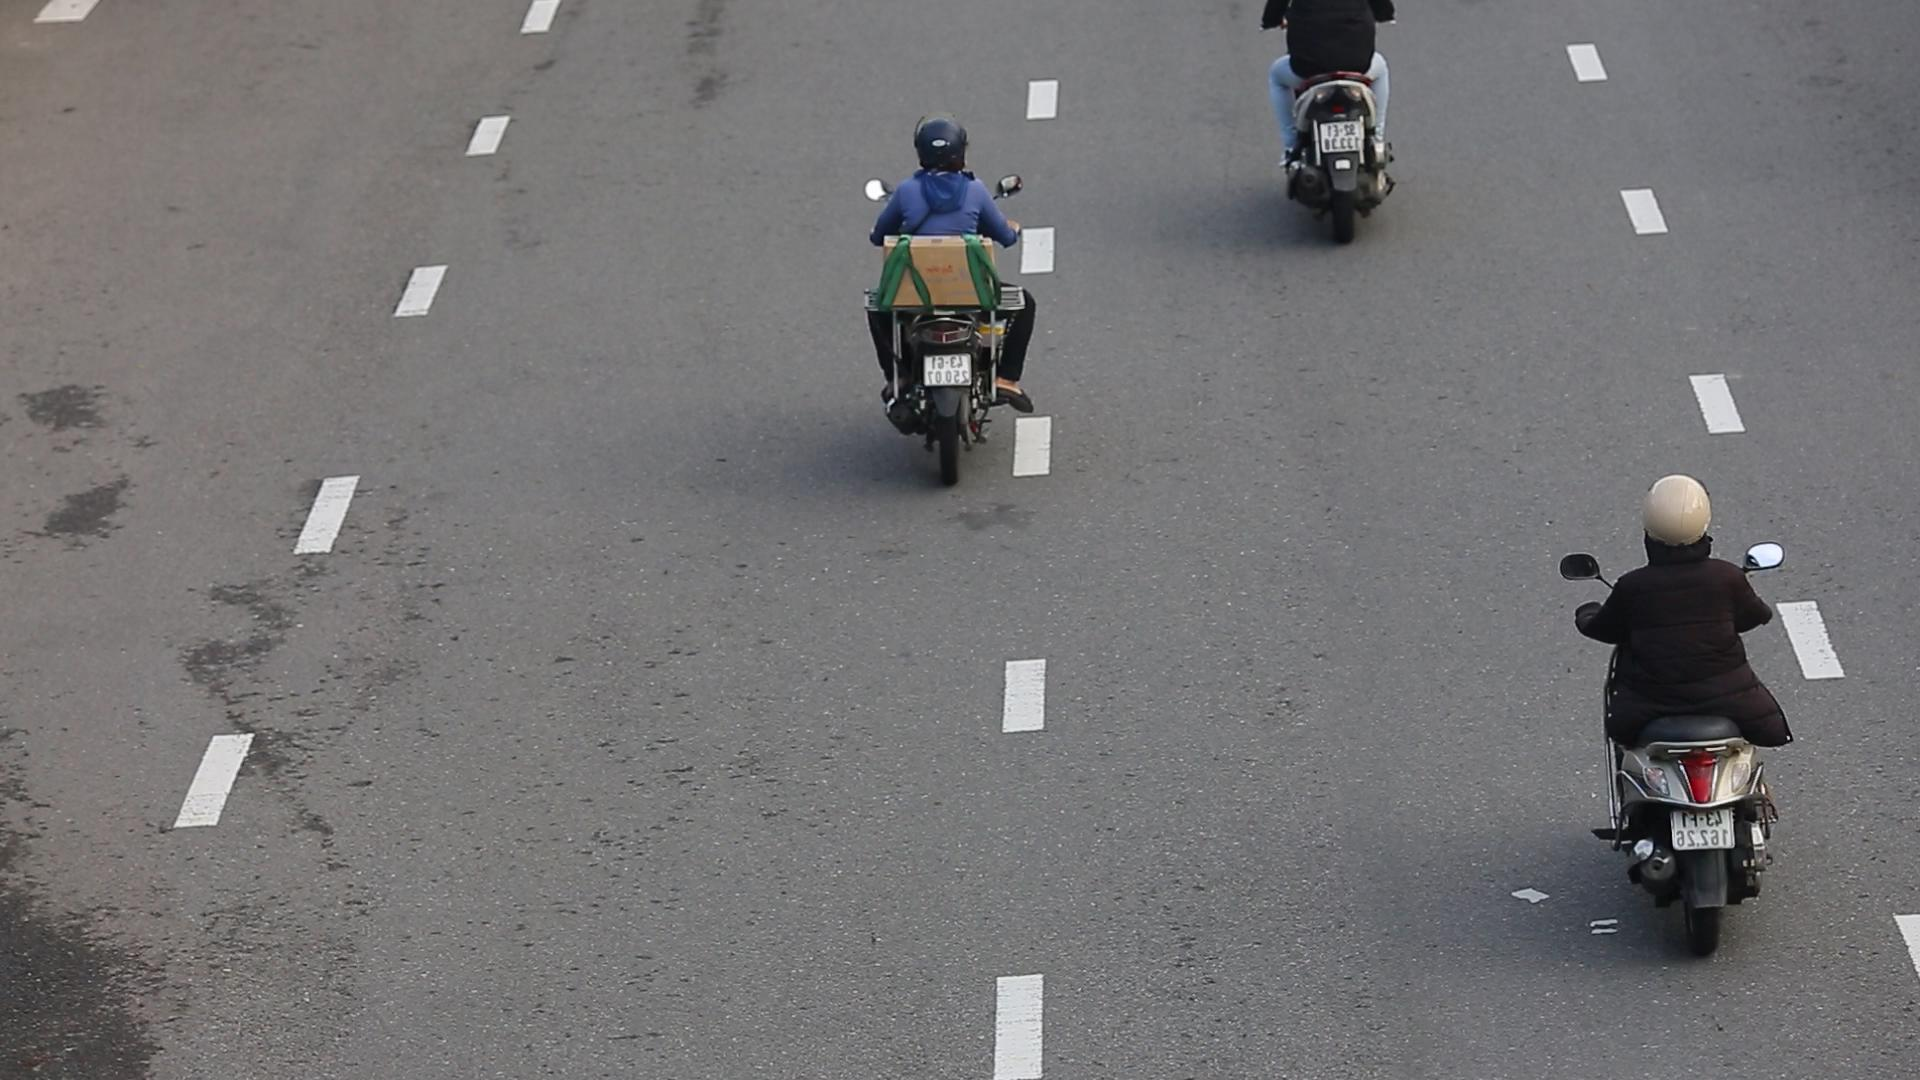motobike: (1571, 465, 1805, 959), (837, 113, 1044, 491)
